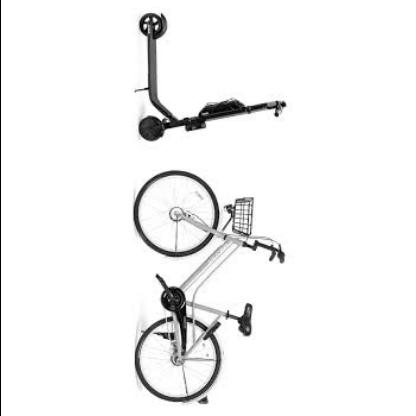bike: (132, 25, 288, 404), (133, 170, 286, 405)
